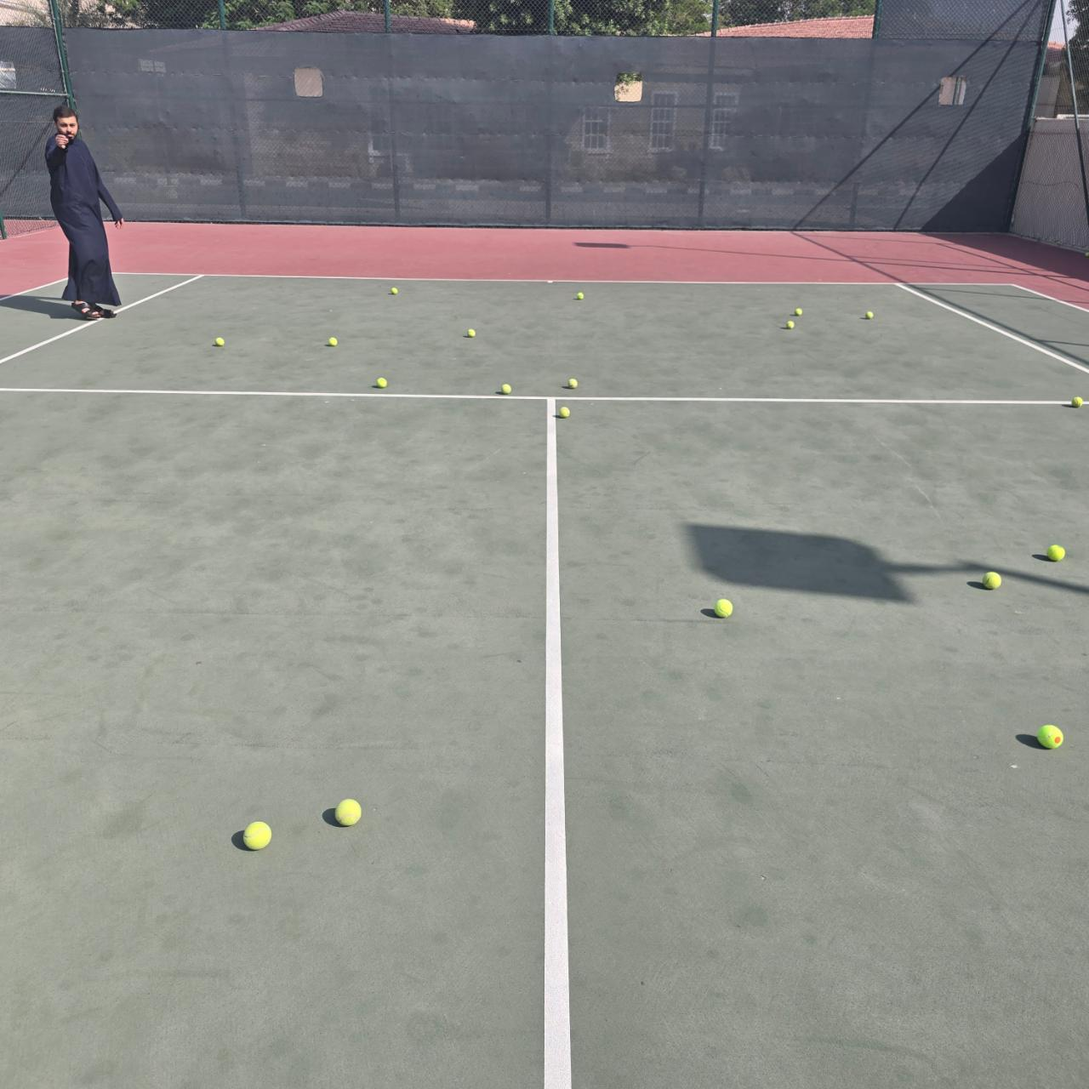tennis-ball: (242, 818, 272, 850), (334, 795, 362, 826), (1035, 721, 1063, 749), (713, 596, 733, 618), (981, 569, 1001, 589), (1046, 543, 1064, 561), (1071, 396, 1083, 408), (559, 407, 571, 418), (376, 378, 387, 389), (501, 384, 512, 394), (568, 378, 578, 389), (328, 337, 338, 347), (467, 329, 476, 338), (786, 321, 795, 329), (215, 338, 224, 346), (865, 311, 873, 319), (576, 292, 584, 299), (794, 308, 802, 315), (392, 288, 399, 294)
